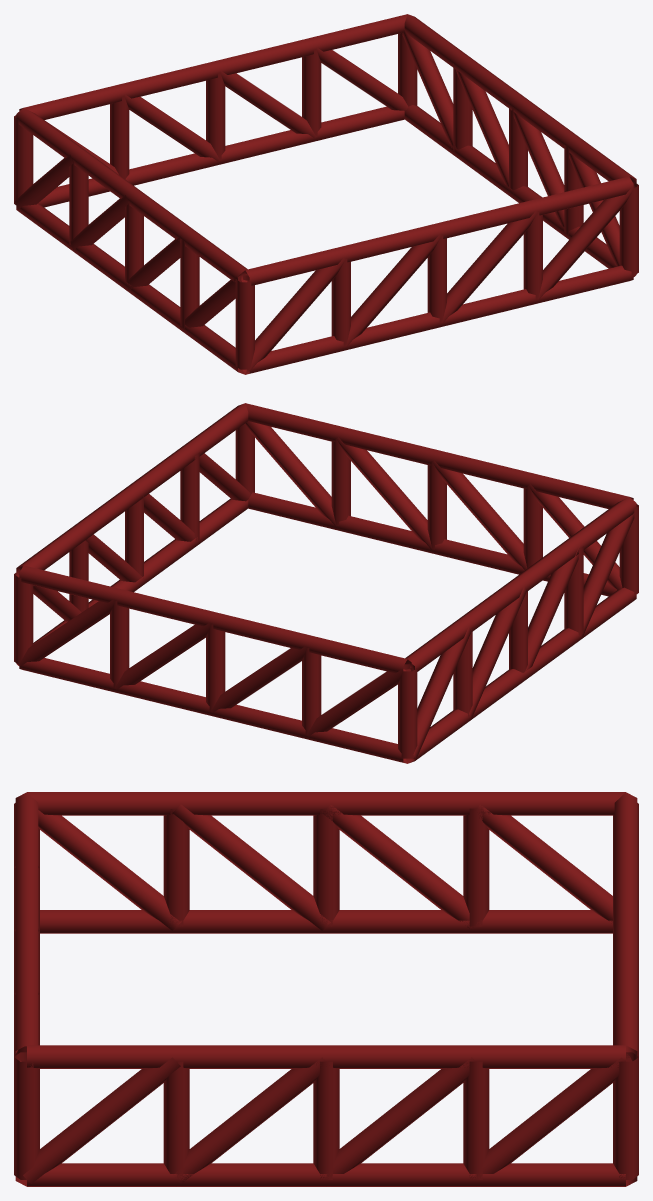
The model's file is andamio3.DAE.
3 renders of one model, top to bottom at view 1: azimuth 30°, elevation 25°; view 2: azimuth 150°, elevation 25°; view 3: azimuth 270°, elevation 25°, orthographic. The views are drawn at different scales.
Visible parts, largest first — view 1: andamio13_8; view 2: andamio13_8; view 3: andamio13_8.
Part boxes in pixels (left/top/right/bottom): andamio13_8: left=14, top=14, right=638, bottom=374; andamio13_8: left=14, top=403, right=638, bottom=763; andamio13_8: left=14, top=792, right=638, bottom=1186.
Size of the model in its own units: 14.32 by 14.4 by 3.6.
